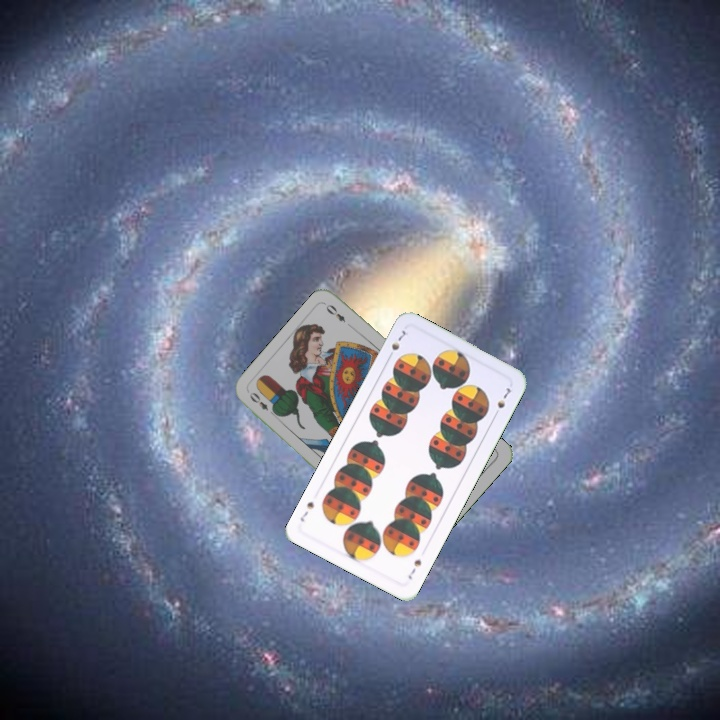EO: (245, 388, 279, 419)
S7: (384, 326, 411, 362), (404, 555, 424, 582)
